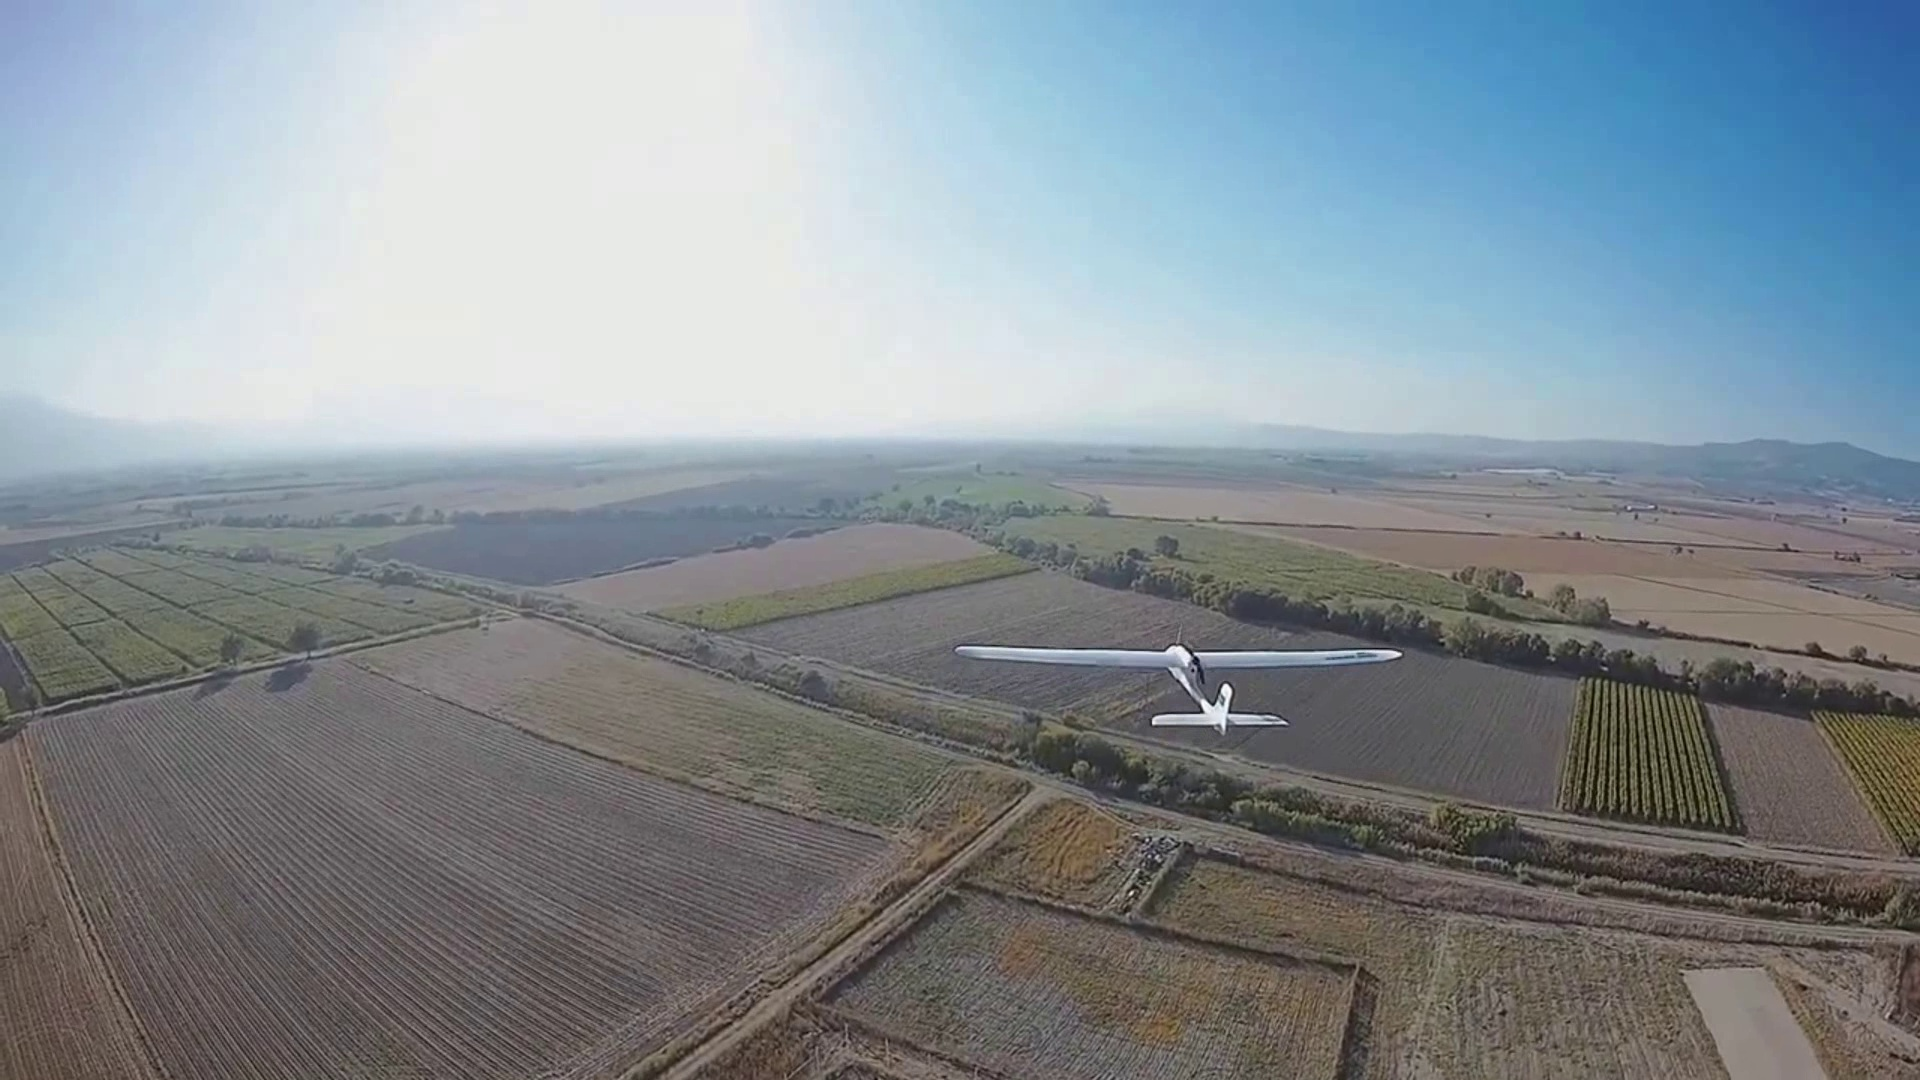airplane: (953, 630, 1402, 738), (1155, 647, 1287, 737)
